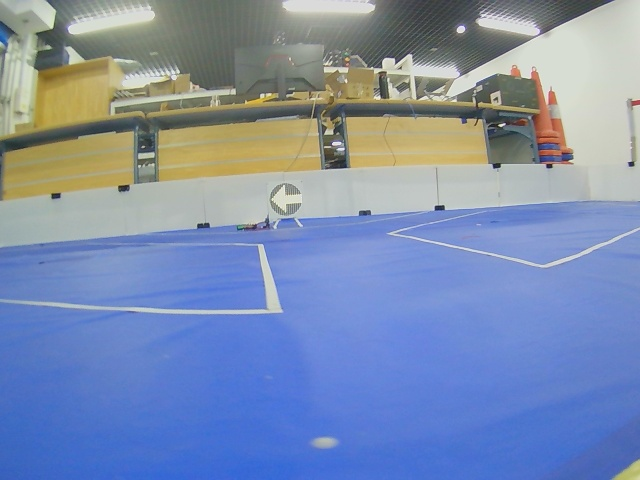left_yellow: (269, 183, 303, 217)
